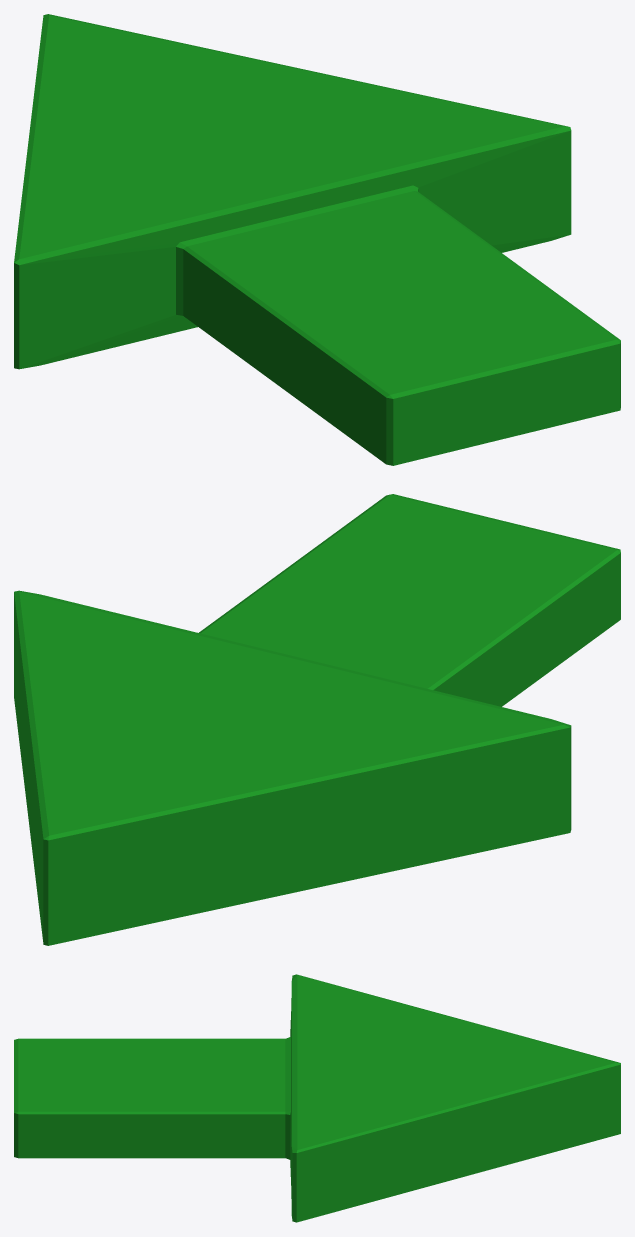
The model's file is SignArrow.fbx.
The picture shows the model from 3 angles, top to bottom: view 1: azimuth 30°, elevation 25°; view 2: azimuth 150°, elevation 25°; view 3: azimuth 270°, elevation 25°; orthographic projection. The views are drawn at different scales.
Parts seen in each view (by area): view 1: arrow; view 2: arrow; view 3: arrow.
Part boxes in pixels (x1,y1,x2,y2): arrow: (14,14,620,465); arrow: (14,494,620,945); arrow: (14,974,620,1222).
Size of the model in its own units: 99.41 by 18.61 by 143.
